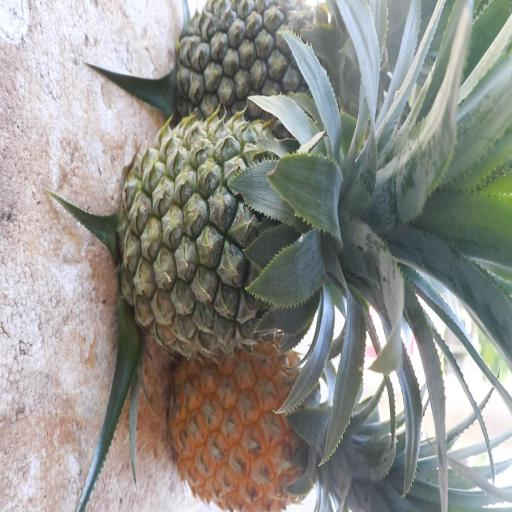------------------------------: (126, 121, 332, 354)
Pineapple - v8 v1: (176, 341, 347, 501), (173, 0, 348, 122)
